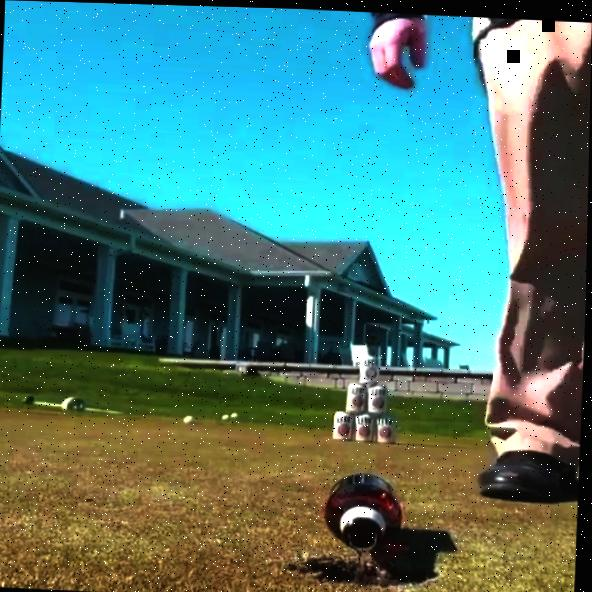GolfBall: (186, 415, 195, 422), (233, 411, 240, 416), (224, 414, 230, 419)
